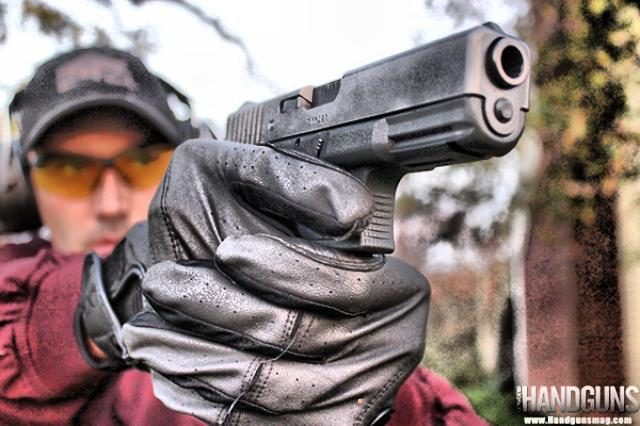pistol: (214, 23, 538, 263)
